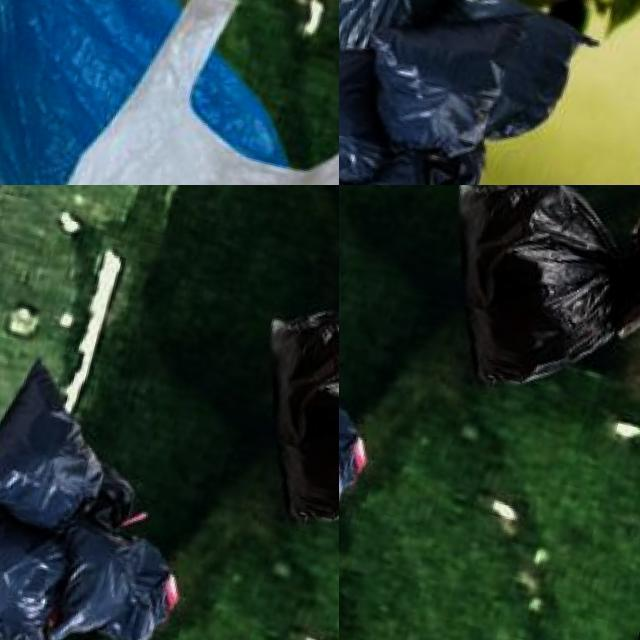waste: (0, 0, 339, 185), (0, 0, 337, 185), (406, 185, 640, 413), (218, 293, 339, 550), (347, 0, 509, 153), (0, 350, 133, 536), (42, 510, 197, 640), (0, 489, 74, 632), (339, 24, 405, 183), (339, 0, 456, 66), (339, 373, 385, 530), (339, 146, 460, 185)
